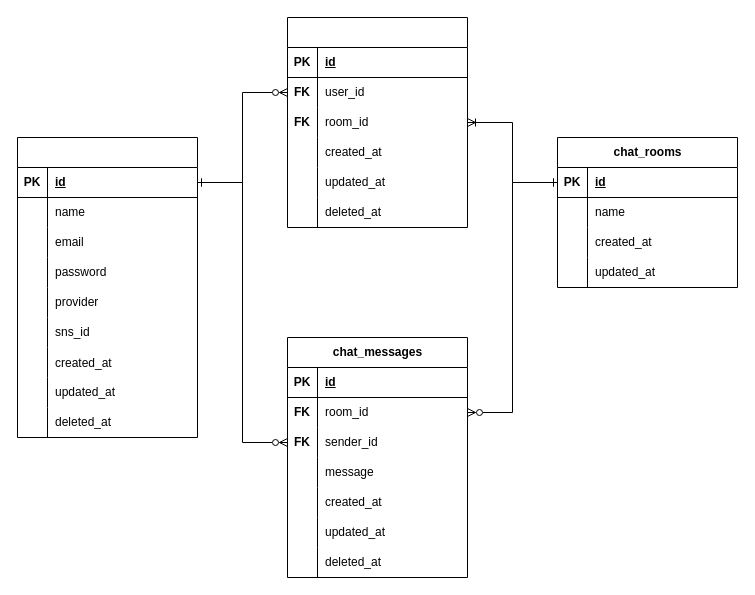
Image size: 755x595. Some labels were removed from this diagram. Here are the shapes that lost their labels. From the top down, the box of each, then its label:
(286, 16, 468, 228): user_chat_room
(16, 136, 198, 438): users
